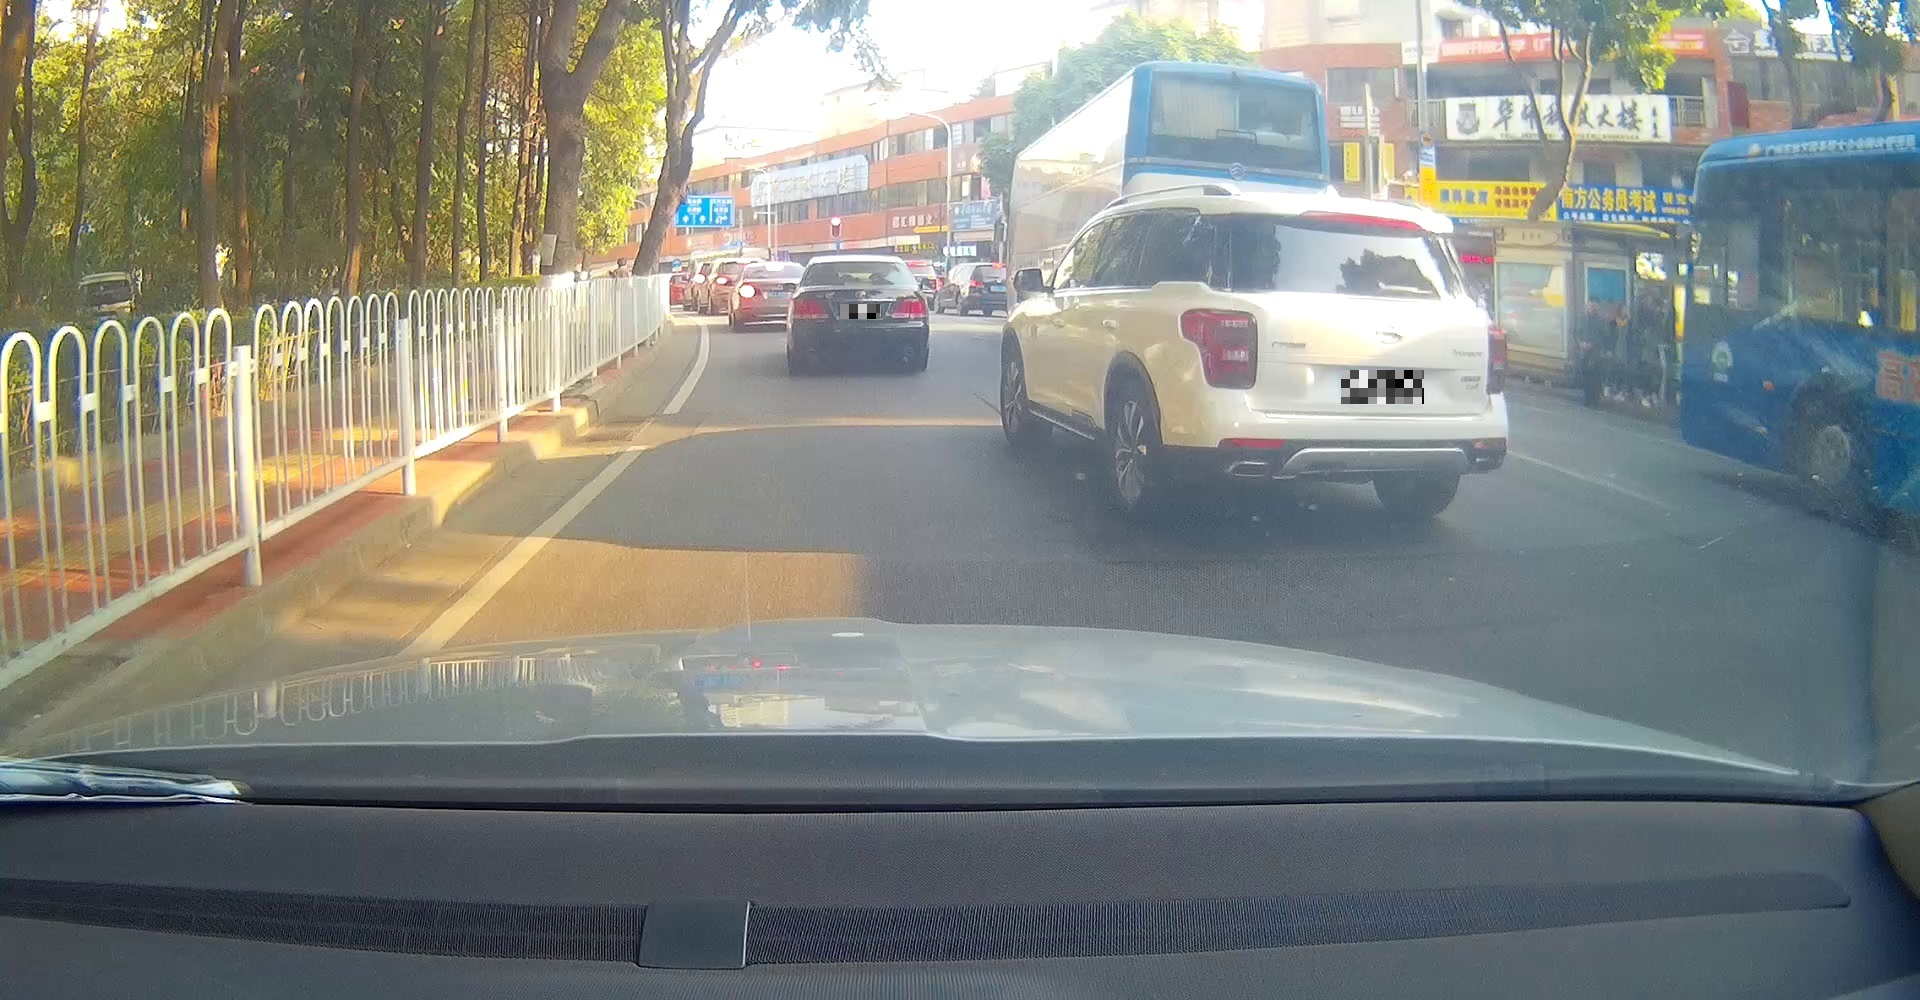L_light: (1178, 307, 1258, 390), (789, 296, 830, 319)
R_light: (1483, 322, 1509, 395), (890, 297, 927, 319)
T_light: (1300, 209, 1423, 231), (848, 261, 872, 266)
day-no: (1175, 190, 1510, 518), (787, 254, 930, 371)
plate_1: (841, 305, 880, 319)
plate_2: (1341, 371, 1423, 404)
